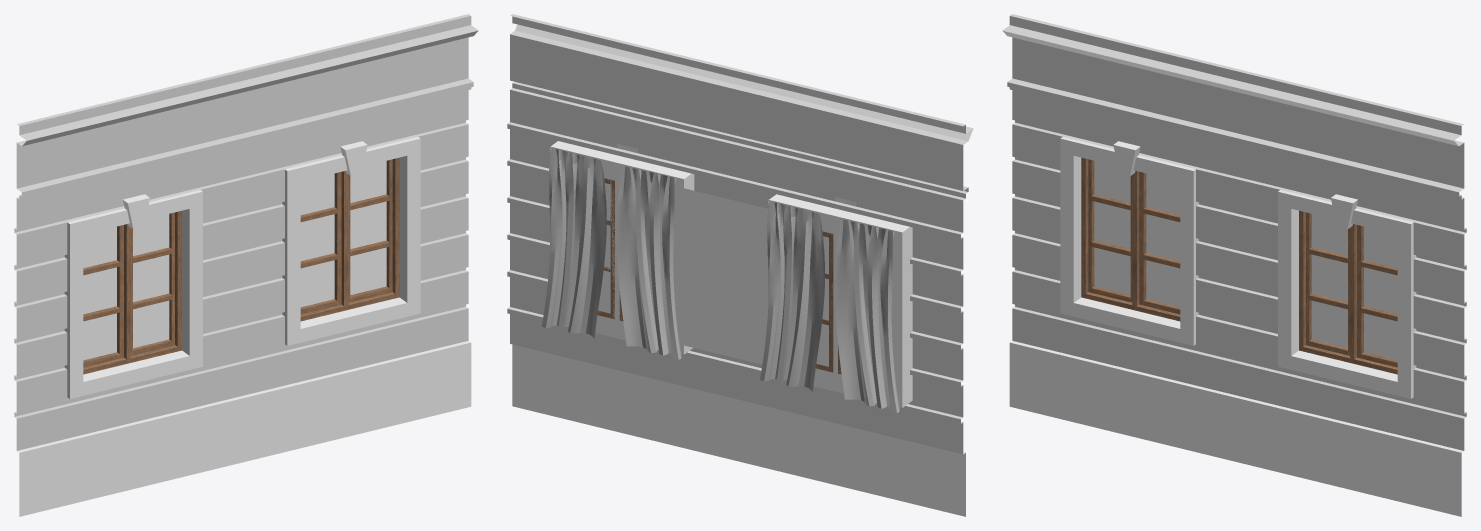
The model's file is Facade_Bottom.fbx.
The picture shows the model from 3 angles, left to right: view 1: azimuth 30°, elevation 25°; view 2: azimuth 150°, elevation 25°; view 3: azimuth 330°, elevation 25°; orthographic projection.
Visible parts, largest first — view 1: Facade_Bottom; view 2: Facade_Bottom; view 3: Facade_Bottom.
Boxes of the visible parts, x1,y1,x2,y2 form: Facade_Bottom: [14, 14, 478, 516]; Facade_Bottom: [507, 14, 973, 516]; Facade_Bottom: [1002, 14, 1466, 516].
Size of the model in its own units: 5.7 by 4.71 by 0.6275.
